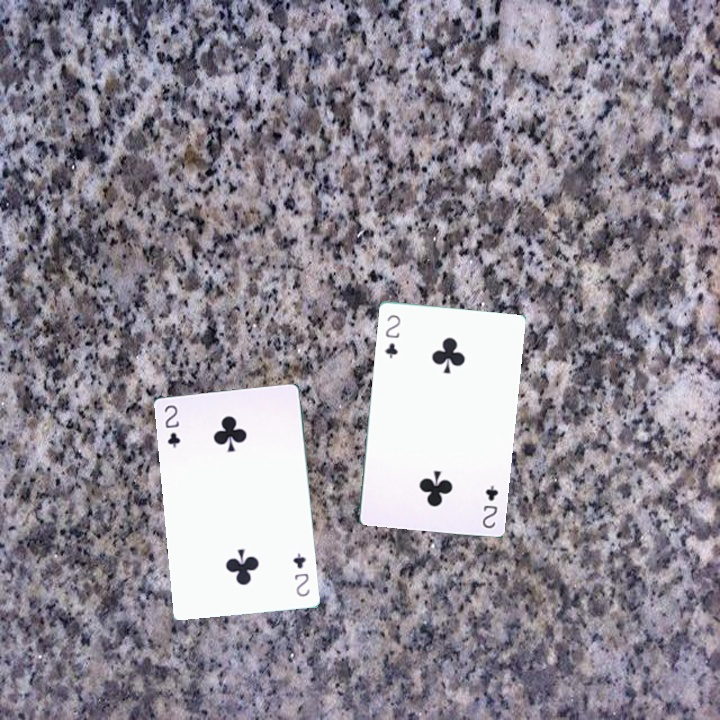2c: (380, 311, 403, 361), (478, 481, 501, 531), (289, 549, 312, 599), (160, 401, 183, 450)
